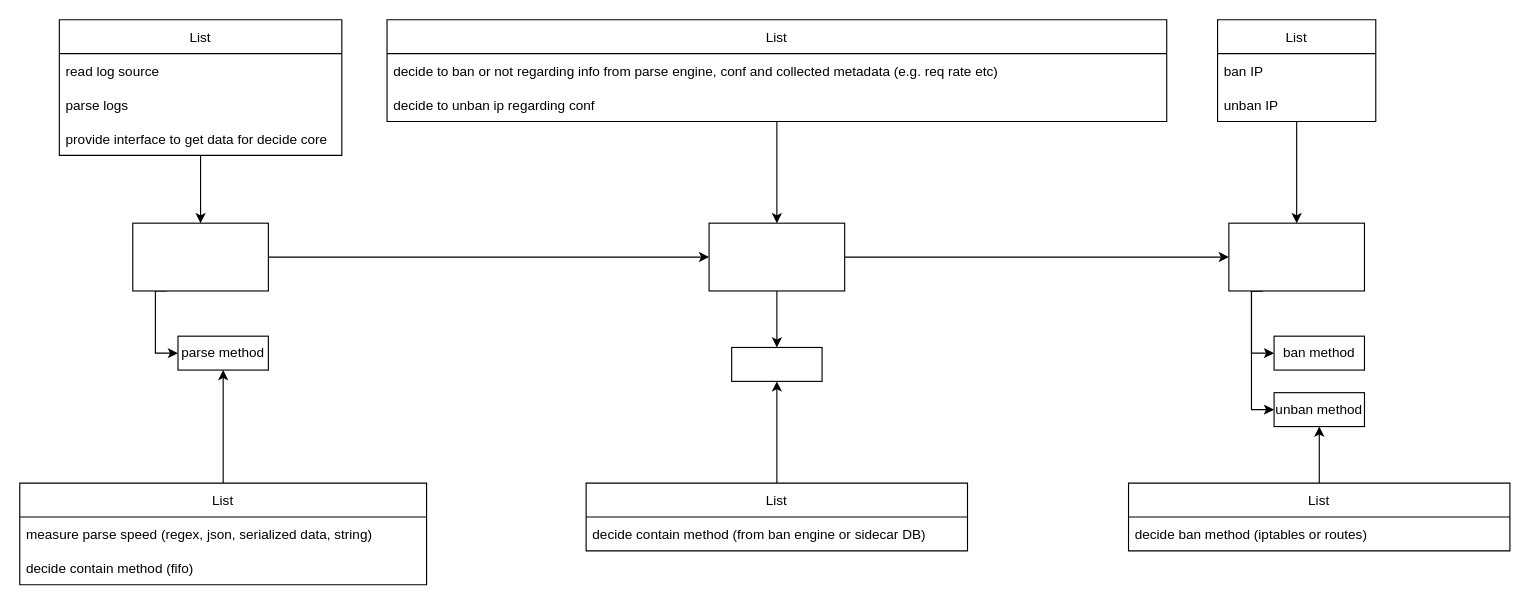
Some shapes in this 1530 by 605 pixel diagram are drawn without their labels. The centre of each missing label's shape, as x and y in pixels:
"ban engine" goes at (x=1296, y=256).
"config" goes at (x=776, y=363).
"decide engine" goes at (x=776, y=256).
"parse engine" goes at (x=200, y=256).
